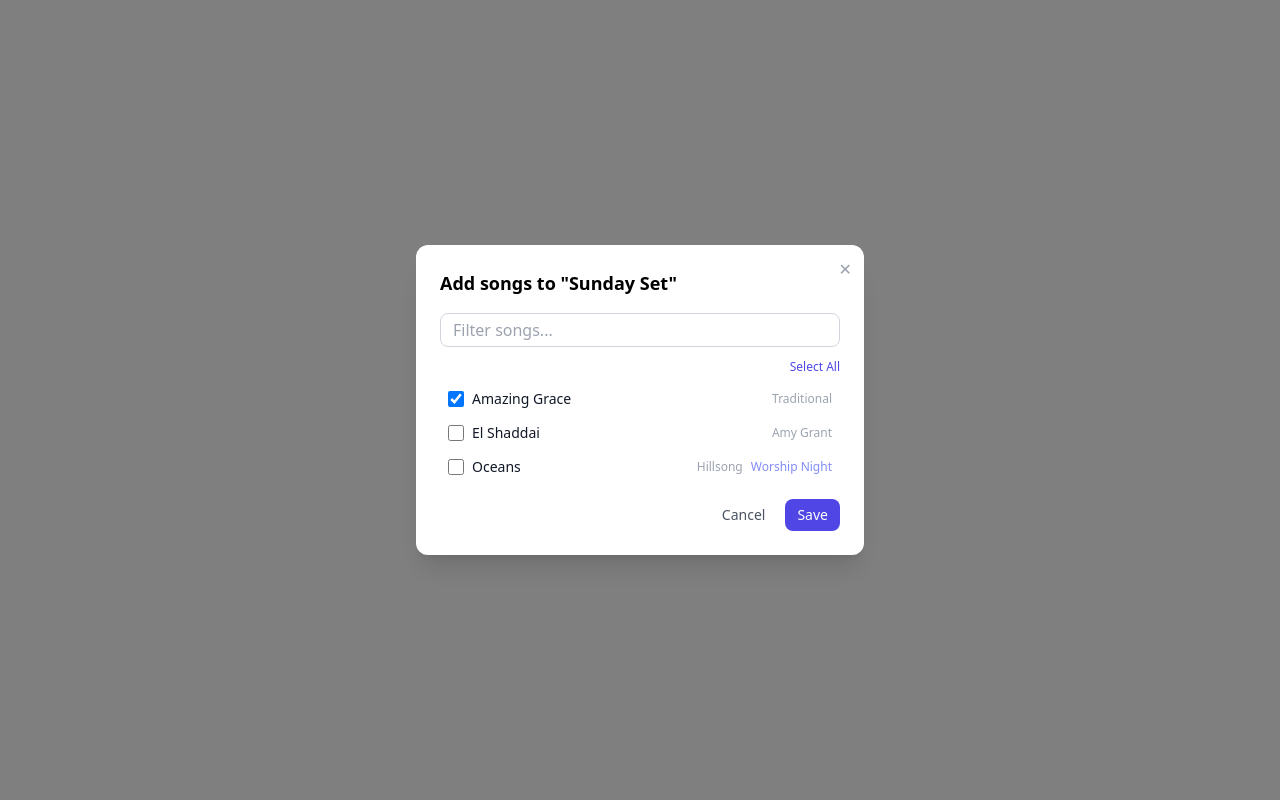
Test case: AddSongsModal › Deselect All unchecks all visible songs
Click the button "Select All".
click(815, 367)  # box [790,359,840,375]
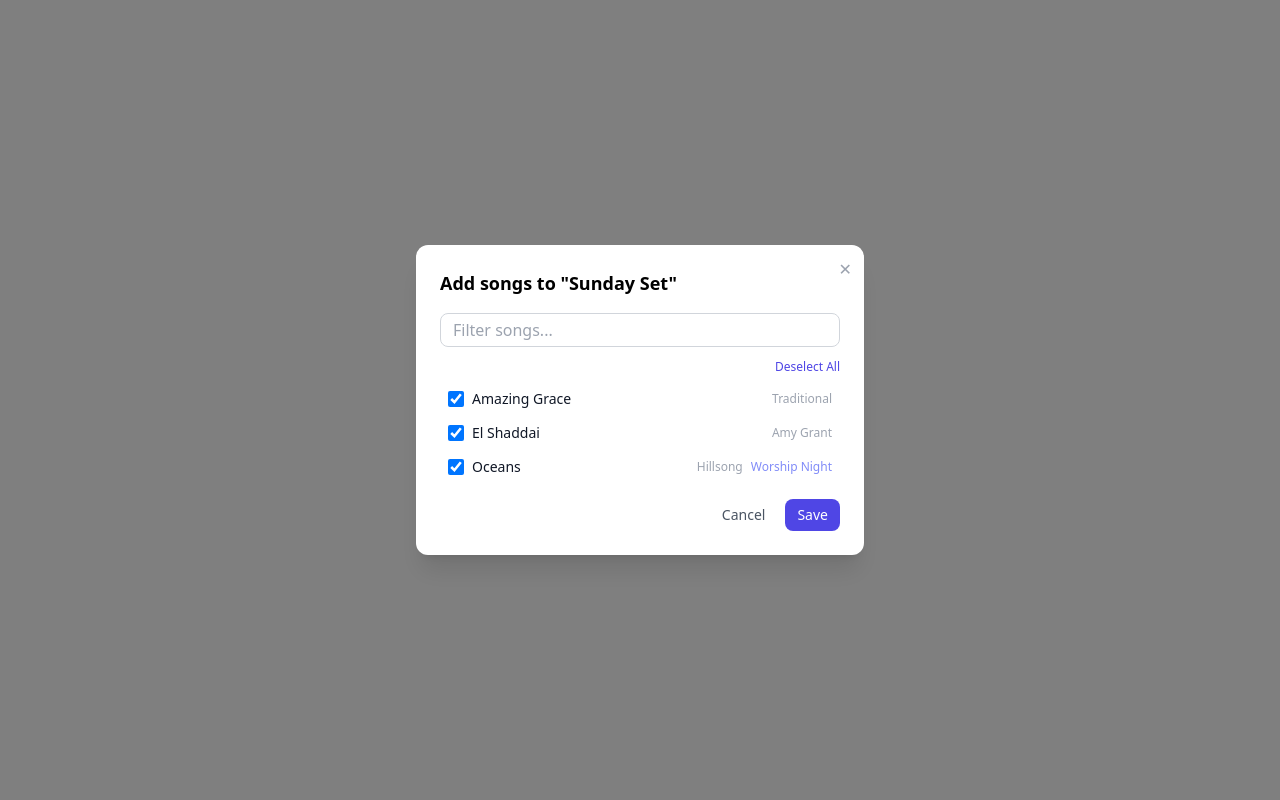
Click the button "Deselect All".
click(808, 367)  # box [775,359,840,375]
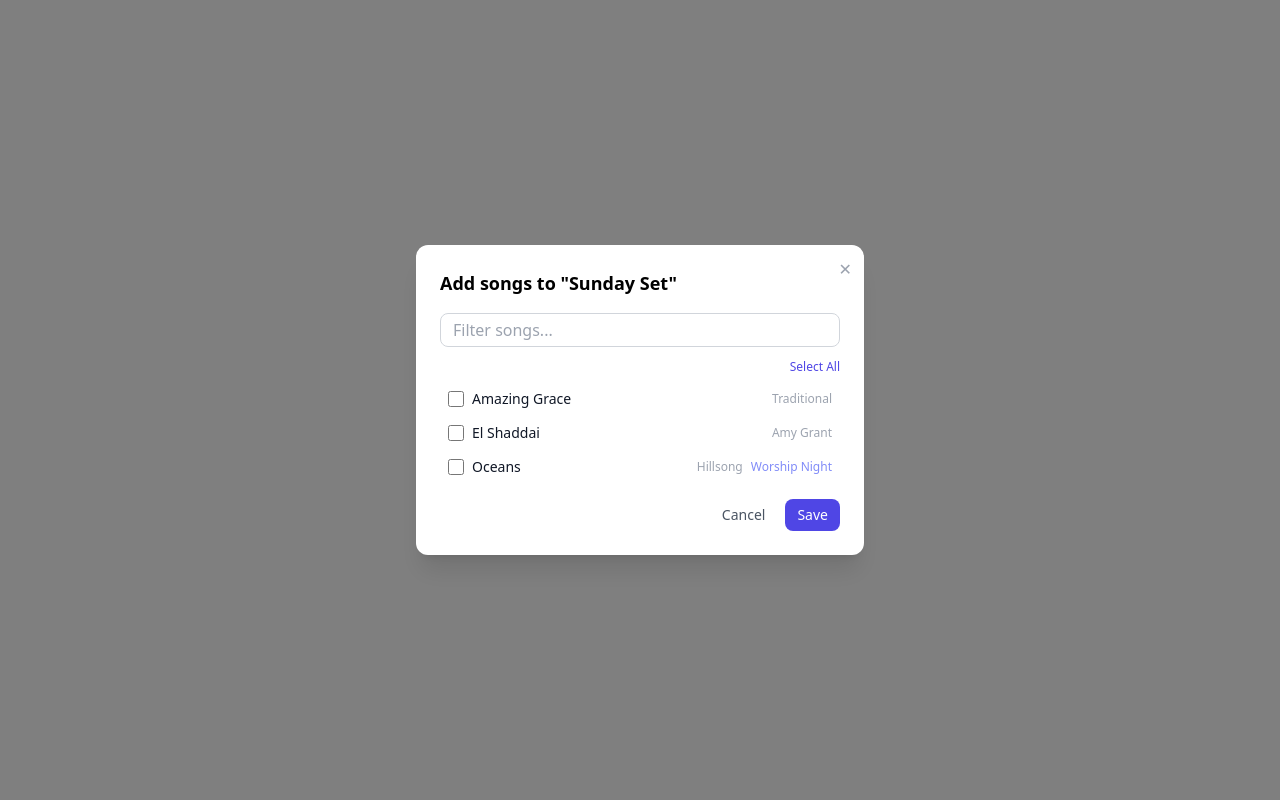
expect the checkbox labelled "Amazing Grace Traditional" is not checked: met, box [448,391,464,407]
expect the checkbox labelled "El Shaddai Amy Grant" is not checked: met, box [448,425,464,441]
expect the checkbox labelled "Oceans Hillsong Worship Night" is not checked: met, box [448,459,464,475]
